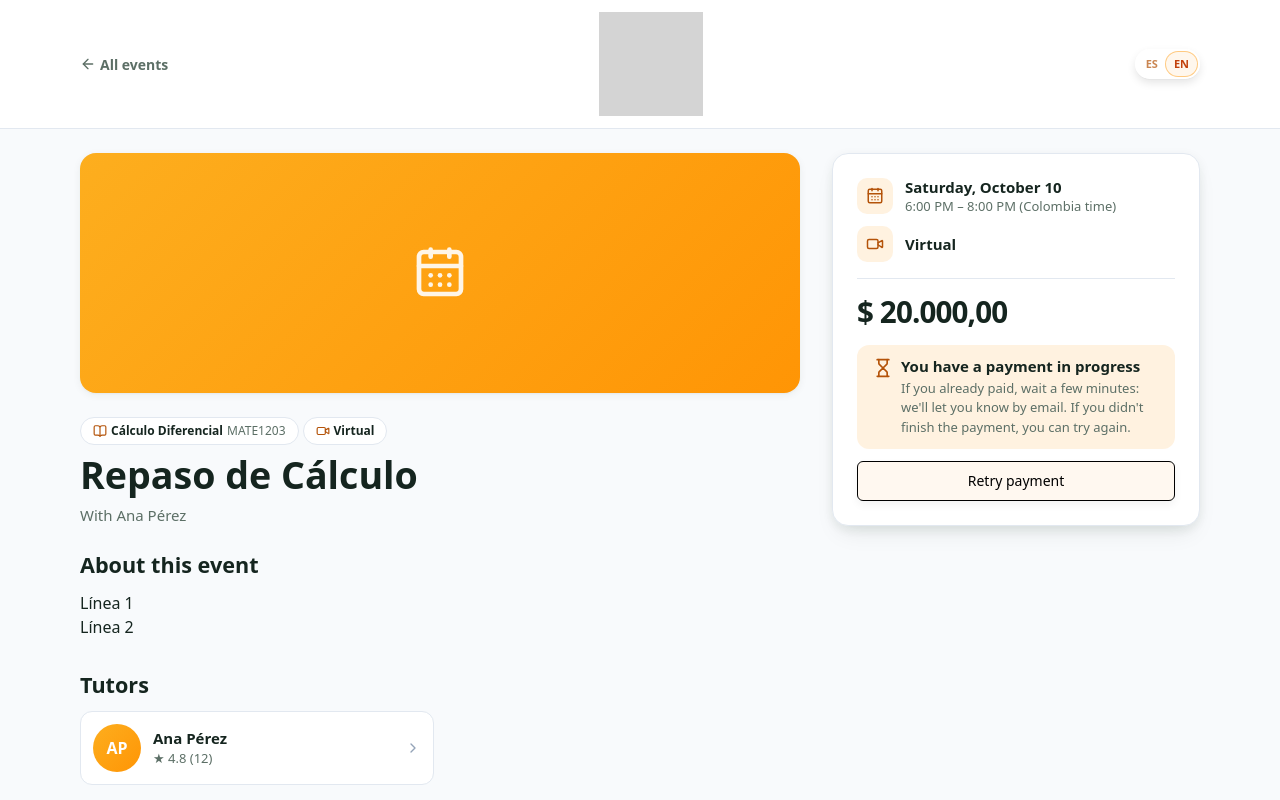
Test case: EventDetailView › PendingPayment: shows the in-progress notice and a secondary "Retry payment" that opens the confirmation
Expected: the text "You have a payment in progress" is shown, [901, 357, 1159, 377]
Expected: the text "If you didn't finish the payment, you can try again." is shown, [901, 379, 1143, 436]
Click the button "Retry payment": (1016, 481) [857, 461, 1175, 501]
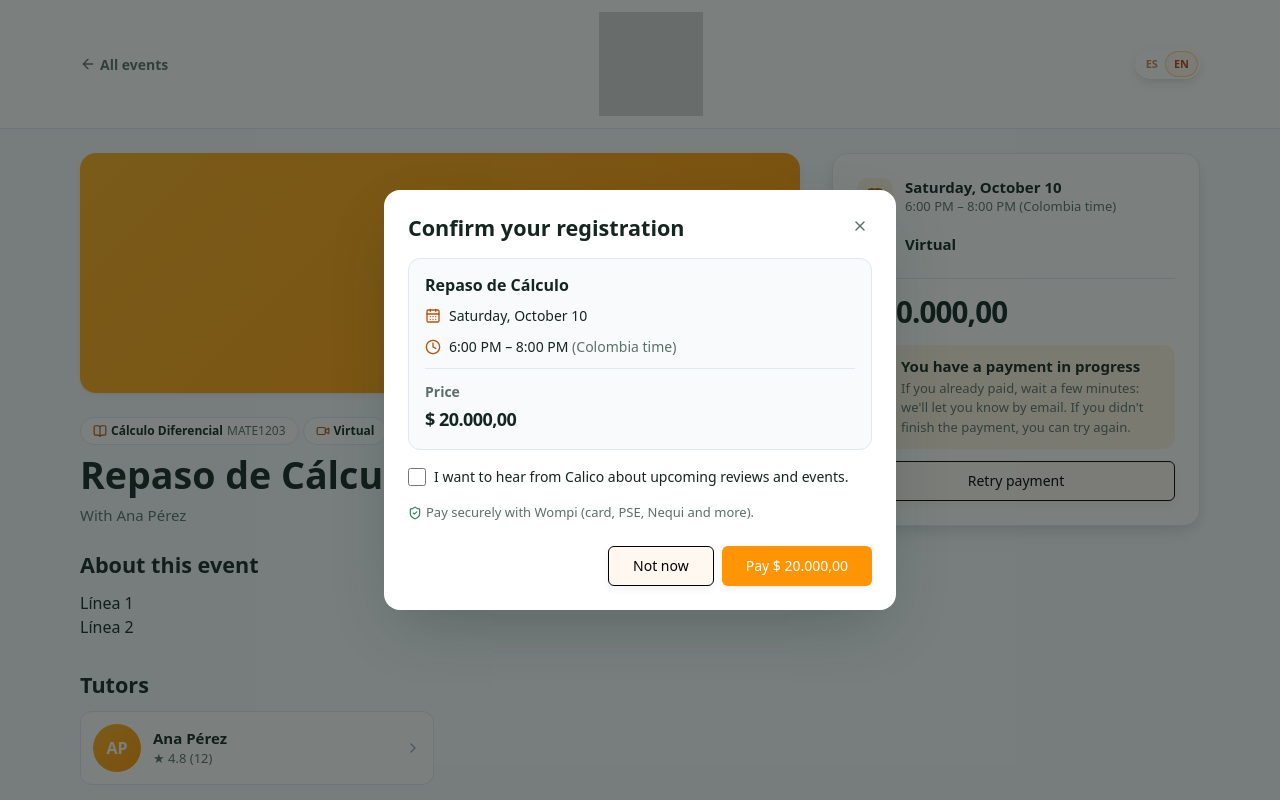
Now the dialog is shown, box [384, 190, 896, 610]
Now the heading "Confirm your registration" is shown, box [408, 213, 685, 242]
